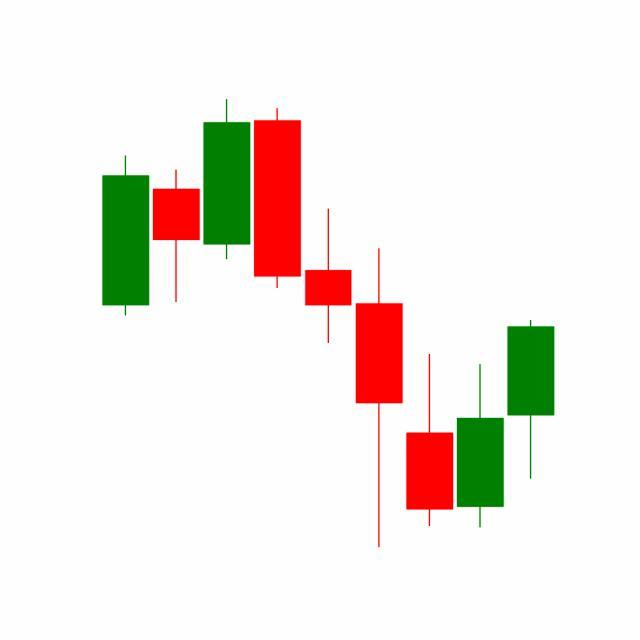Hikkake Pattern: (252, 104, 506, 549)
